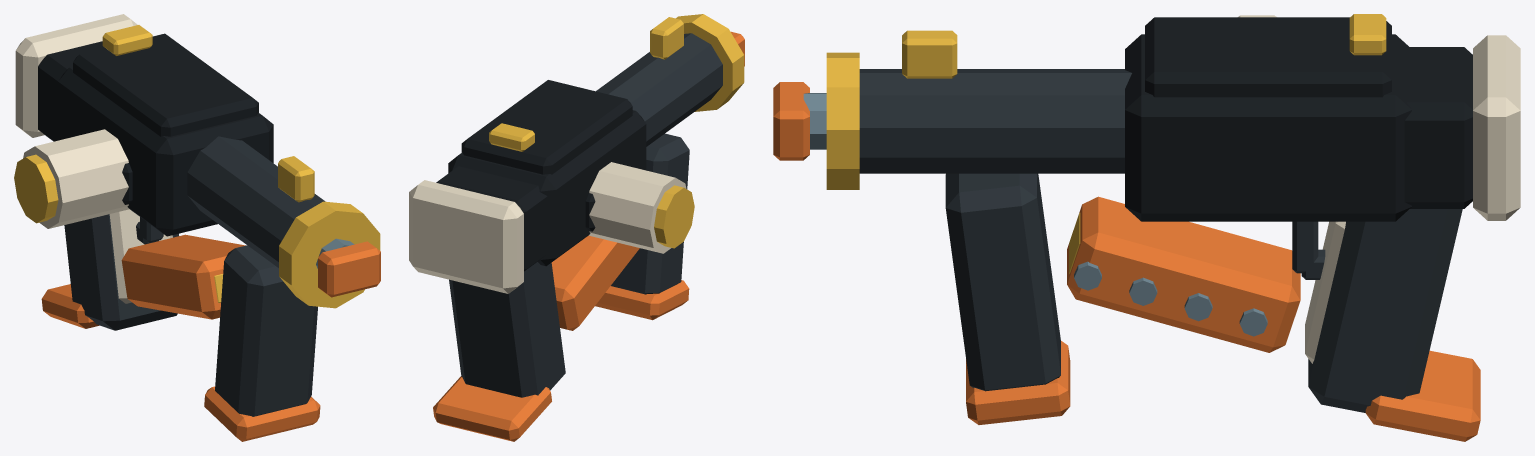
Rendered from NailGun.glb.
3 renders of one model, left to right at view 1: azimuth 30°, elevation 25°; view 2: azimuth 150°, elevation 25°; view 3: azimuth 270°, elevation 25°, orthographic. The views are drawn at different scales.
Visible parts, largest first — view 1: FrontGripCore, ReceiverBody, ReceiverTop, DriveTube, NailMagazine, PressureCanister, GripCore, SafetyCollar, RearBufferPad, ContactFoot, FrontGripCap, CanisterFrontCap (+5 smaller); view 2: GripCore, RearBufferPad, ReceiverTop, ReceiverBody, DriveTube, PressureCanister, NailMagazine, GripCap, FrontGripCore, RearHousing, SafetyCollar, FrontGripCap (+3 smaller); view 3: ReceiverBody, DriveTube, GripCore, NailMagazine, FrontGripCore, ReceiverTop, RearHousing, RearBufferPad, GripCap, SafetyCollar, FrontGripCap, ContactFoot (+5 smaller).
Part boxes in pixels (<box>): FrontGripCore: <box>215,245,317,416</box>; ReceiverBody: <box>58,66,273,236</box>; ReceiverTop: <box>73,33,258,136</box>; DriveTube: <box>187,136,325,267</box>; NailMagazine: <box>121,234,245,319</box>; PressureCanister: <box>23,129,129,228</box>; GripCore: <box>64,214,178,330</box>; SafetyCollar: <box>279,201,380,308</box>; RearBufferPad: <box>15,14,137,137</box>; ContactFoot: <box>318,241,380,297</box>; FrontGripCap: <box>204,386,320,441</box>; CanisterFrontCap: <box>14,154,58,223</box>; GripCore: <box>449,262,565,397</box>; RearBufferPad: <box>409,180,523,293</box>; ReceiverTop: <box>461,80,632,174</box>; ReceiverBody: <box>448,110,646,266</box>; DriveTube: <box>596,33,722,146</box>; PressureCanister: <box>589,162,686,253</box>; NailMagazine: <box>551,235,639,330</box>; GripCap: <box>433,376,551,441</box>; FrontGripCore: <box>611,133,689,294</box>; RearHousing: <box>436,166,547,271</box>; SafetyCollar: <box>676,14,744,111</box>; FrontGripCap: <box>595,280,689,320</box>; ReceiverBody: <box>1125,34,1411,221</box>; DriveTube: <box>859,69,1131,173</box>; GripCore: <box>1308,209,1462,412</box>; NailMagazine: <box>1067,196,1300,352</box>; FrontGripCore: <box>945,173,1060,391</box>; ReceiverTop: <box>1145,17,1391,97</box>; RearHousing: <box>1404,47,1472,208</box>; RearBufferPad: <box>1473,35,1520,220</box>; GripCap: <box>1365,350,1480,441</box>; SafetyCollar: <box>826,52,859,189</box>; FrontGripCap: <box>966,341,1070,424</box>; ContactFoot: <box>773,82,809,160</box>.
Bounding box in the file's own units: 0.8075 × 1.18 × 2.03.
